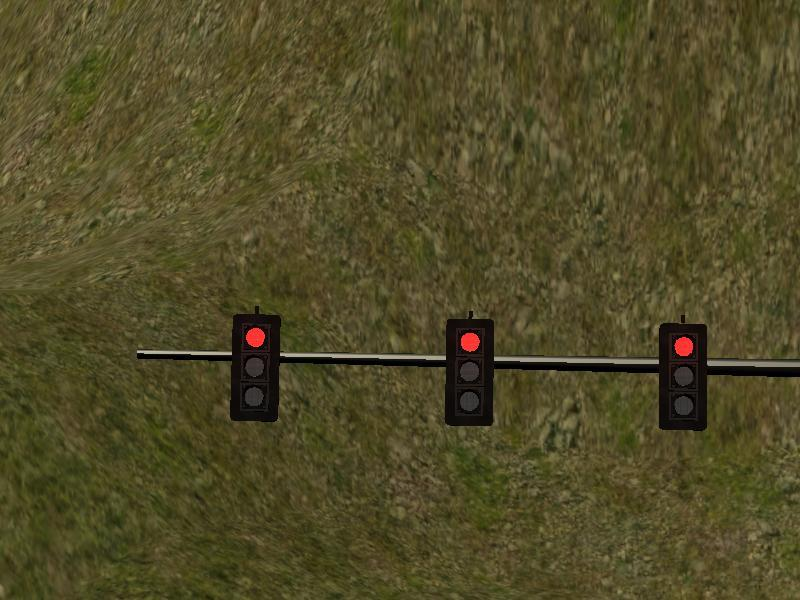Red: (659, 326, 706, 428), (446, 321, 492, 423), (233, 315, 276, 418)
